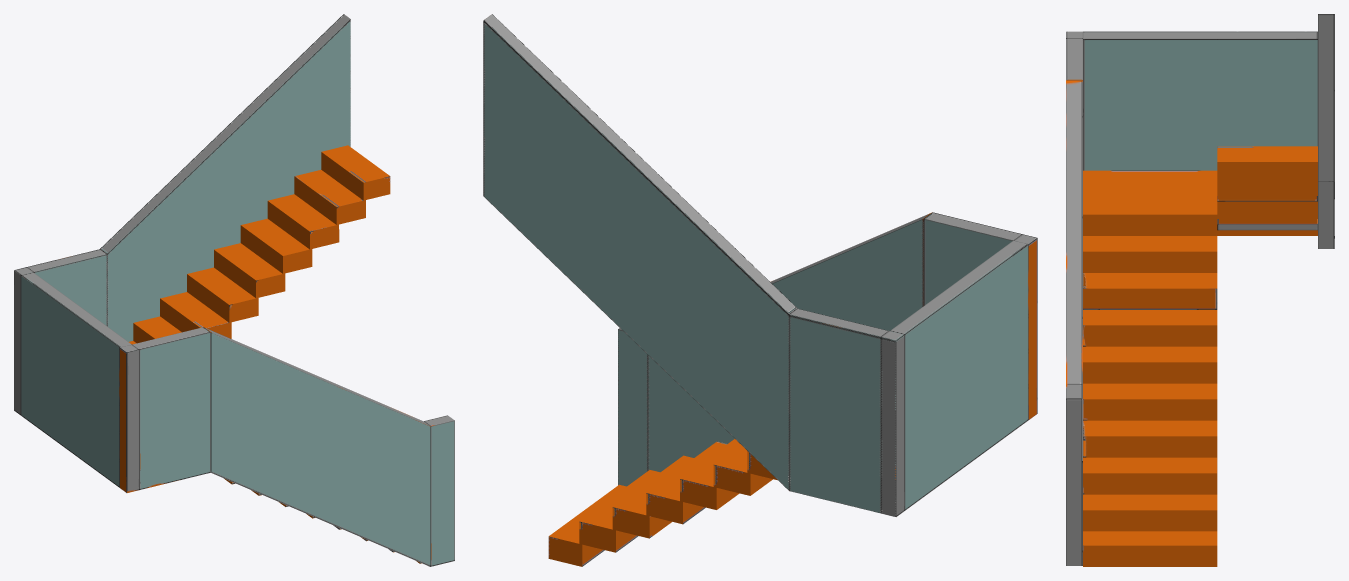
Rendered from stairs.fbx.
The picture shows the model from 3 angles, left to right: view 1: azimuth 30°, elevation 25°; view 2: azimuth 150°, elevation 25°; view 3: azimuth 270°, elevation 25°; orthographic projection. The views are drawn at different scales.
Visible parts, largest first — view 1: Cube; view 2: Cube; view 3: Cube.
Boxes of the visible parts, x1,y1,x2,y2 form: Cube: [14, 14, 454, 566]; Cube: [483, 14, 1037, 566]; Cube: [1066, 14, 1334, 566].
Bounding box in the file's own units: 1350 × 1821 × 800.
